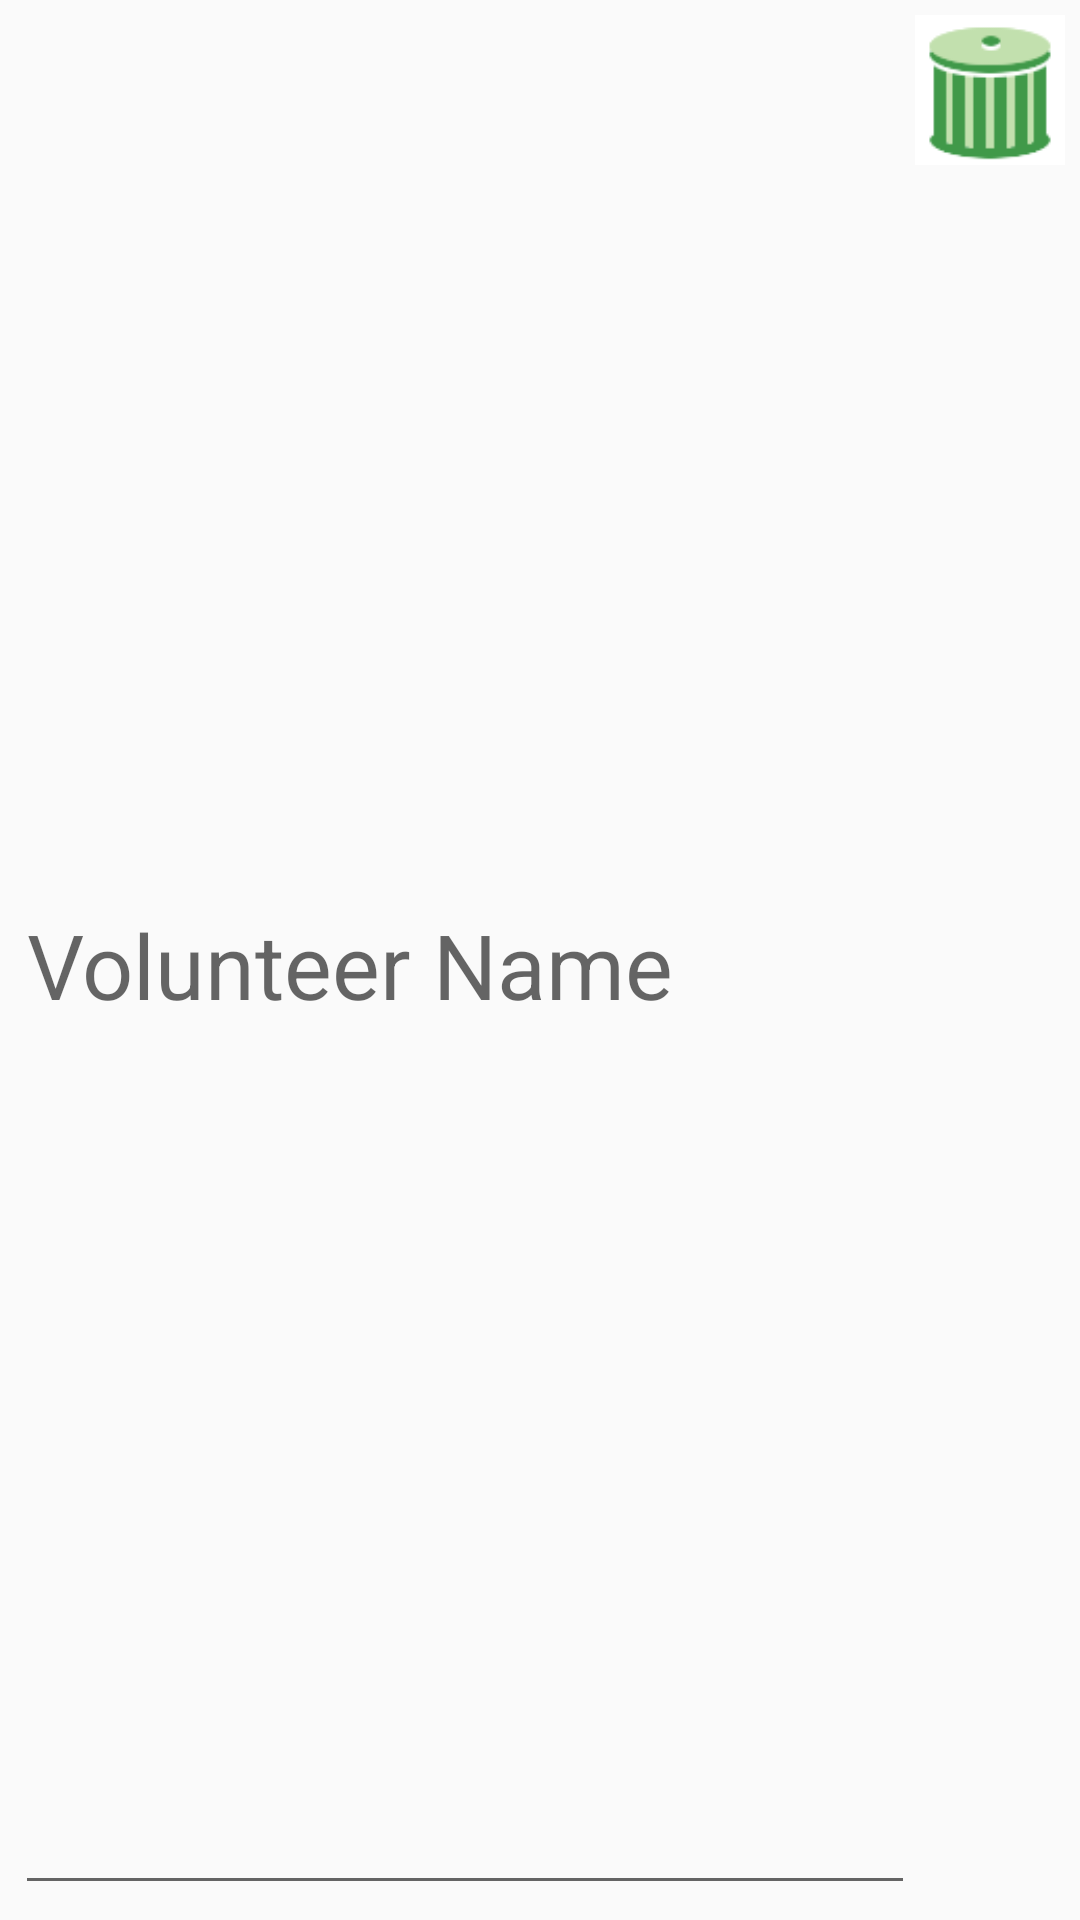

Named icons in this screenshot (1080 x 1920) and their centers, [x,y]:
Delete: [990,93]
